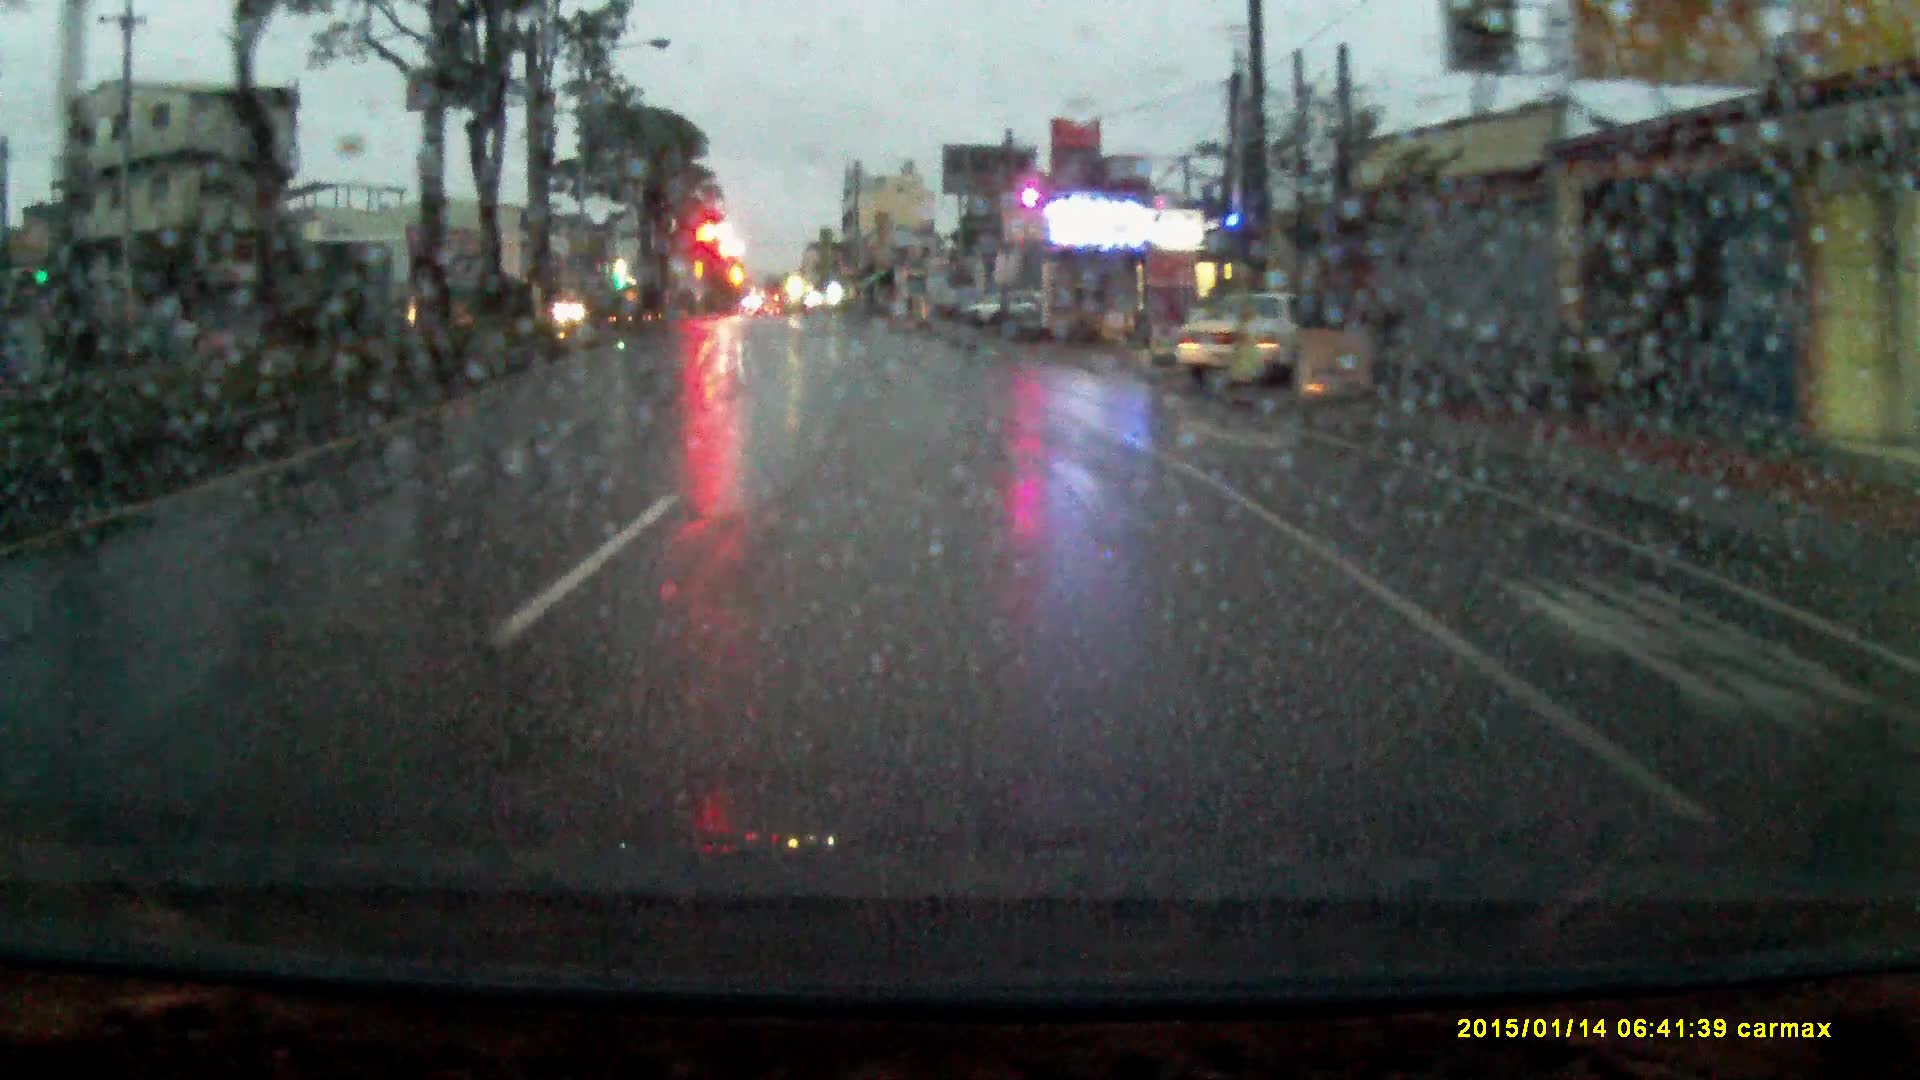vehicle: (1189, 289, 1353, 392), (969, 289, 1050, 326)
